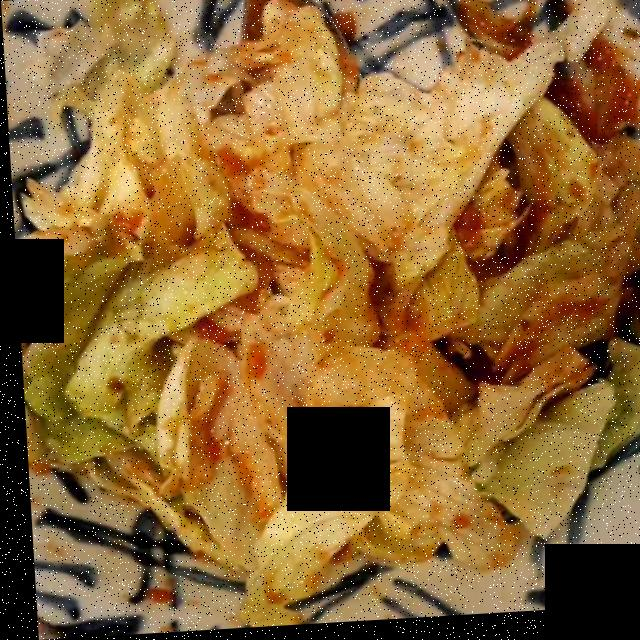salad-leaf-salad-green: (17, 0, 639, 589)
